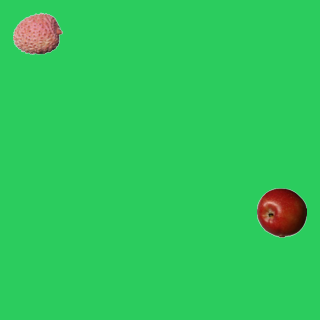Apple Braeburn: (256, 187, 306, 237)
Lychee: (12, 8, 62, 58)
